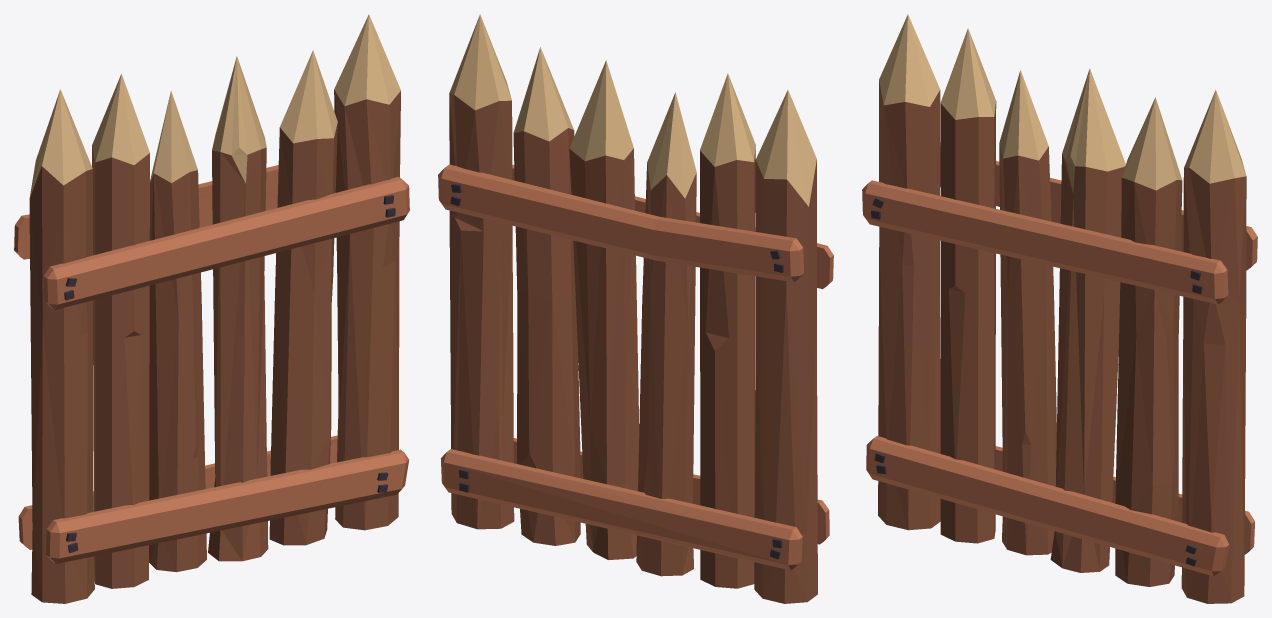
Rendered from Fence_1_2.fbx.
3 renders of one model, left to right at view 1: azimuth 30°, elevation 25°; view 2: azimuth 150°, elevation 25°; view 3: azimuth 330°, elevation 25°, orthographic.
Visible parts, largest first — view 1: Fence_1_1; view 2: Fence_1_1; view 3: Fence_1_1.
Part boxes in pixels (x1=…): Fence_1_1: x1=14, y1=14, x2=409, y2=603; Fence_1_1: x1=438, y1=14, x2=833, y2=603; Fence_1_1: x1=862, y1=14, x2=1257, y2=603.
Bounding box in the file's own units: 1.78 × 2.36 × 0.3678.
